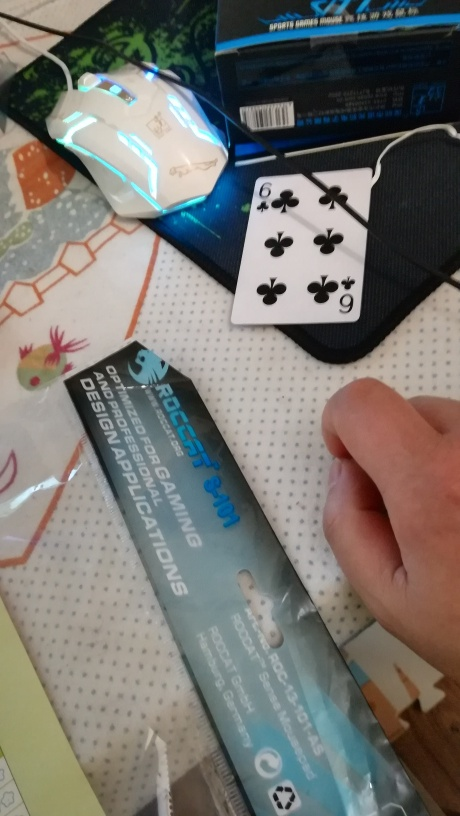mh 6: (229, 165, 374, 332)
